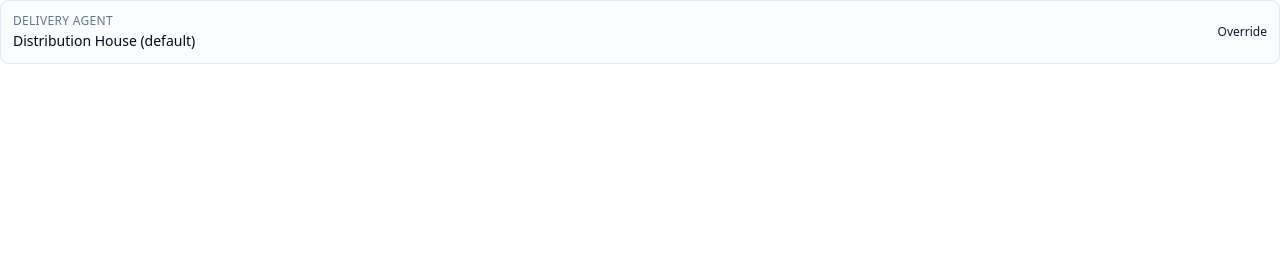
Scenario: DeliveryOverrideSelector › Apply calls onChange with correct override object and closes form
Click the button "Override" at (1242, 32), box x1=1218 y1=24 x2=1267 y2=40
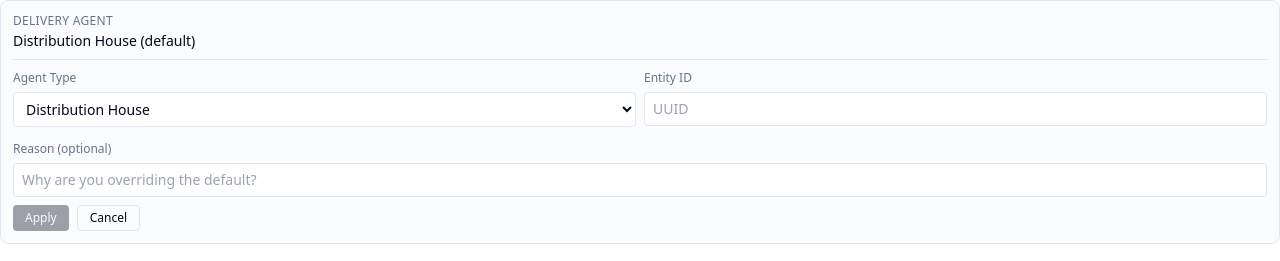
Type "entity-123" into the field with placeholder "UUID" at (956, 109), box x1=644 y1=92 x2=1267 y2=126
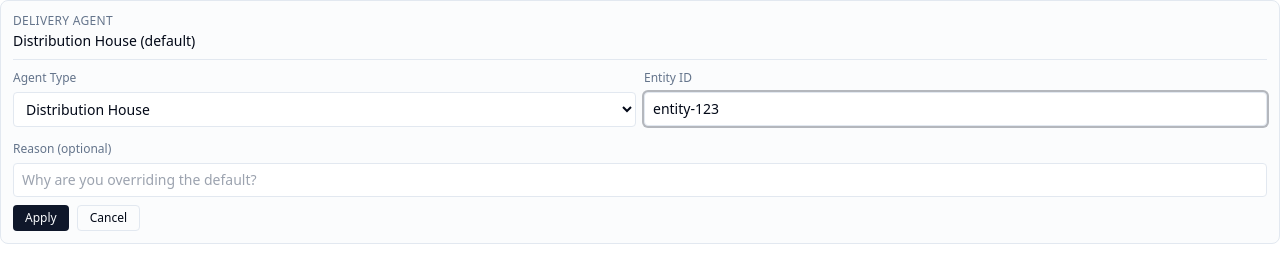
Type "test reason" into the field with placeholder "Why are you overriding the default?" at (640, 180), box x1=13 y1=163 x2=1267 y2=197
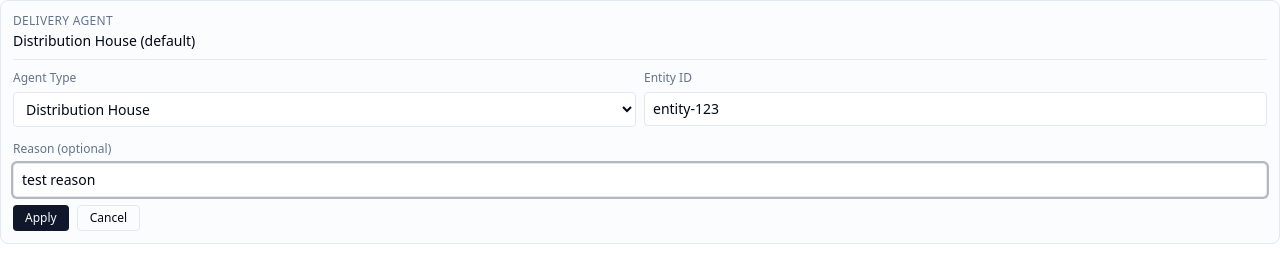
Click the button "Apply" at (41, 218), box x1=13 y1=205 x2=69 y2=231
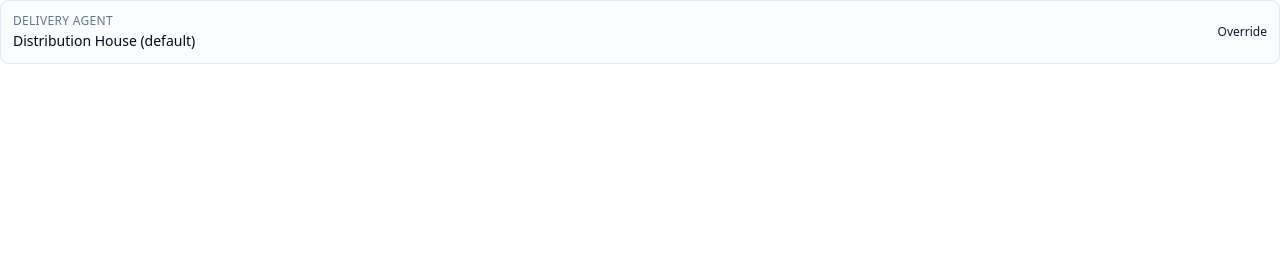
Result: the field with placeholder "UUID" is gone
